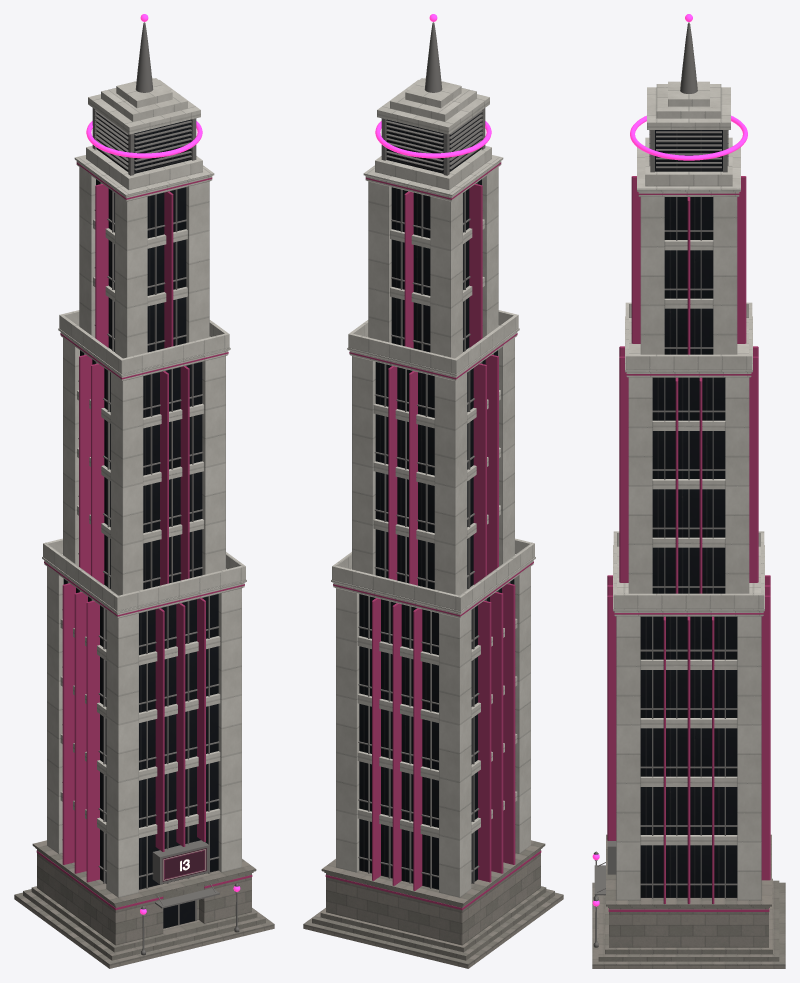
The model's file is s33-infogurus.glb.
The picture shows the model from 3 angles, left to right: view 1: azimuth 30°, elevation 25°; view 2: azimuth 150°, elevation 25°; view 3: azimuth 270°, elevation 25°; orthographic projection.
Visible parts, largest first — view 1: Landmark · InfoGurus (Series 33); view 2: Landmark · InfoGurus (Series 33); view 3: Landmark · InfoGurus (Series 33).
Part boxes in pixels (left/top/right/bottom): Landmark · InfoGurus (Series 33): left=14, top=14, right=274, bottom=968; Landmark · InfoGurus (Series 33): left=303, top=14, right=563, bottom=968; Landmark · InfoGurus (Series 33): left=592, top=14, right=785, bottom=968.
Size of the model in its own units: 12 by 62.5 by 12.
Materials: 7 (4 with a texture image).
